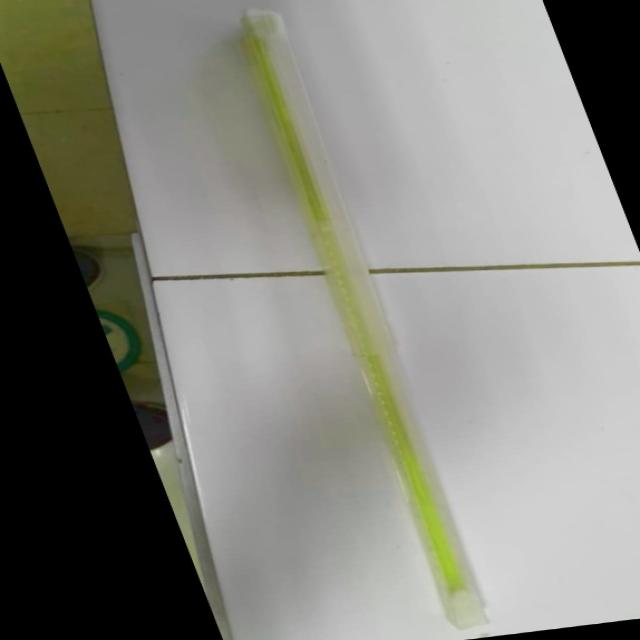Thermometer: (208, 0, 518, 637)
